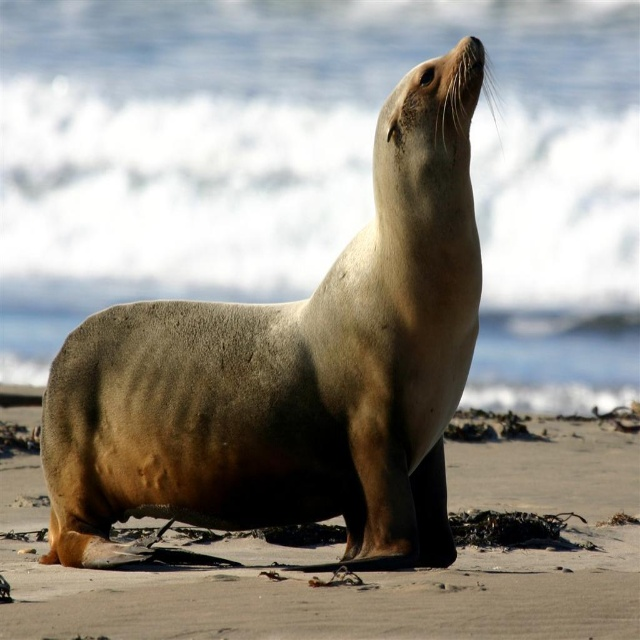Sea lion: (38, 38, 506, 567)
